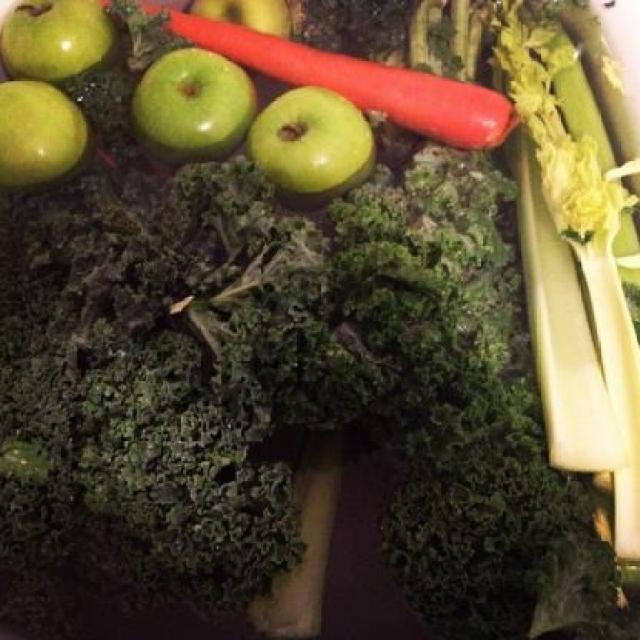Apple pie: (246, 90, 380, 212), (128, 51, 252, 167), (0, 73, 92, 192), (0, 0, 120, 85), (186, 0, 288, 42)
